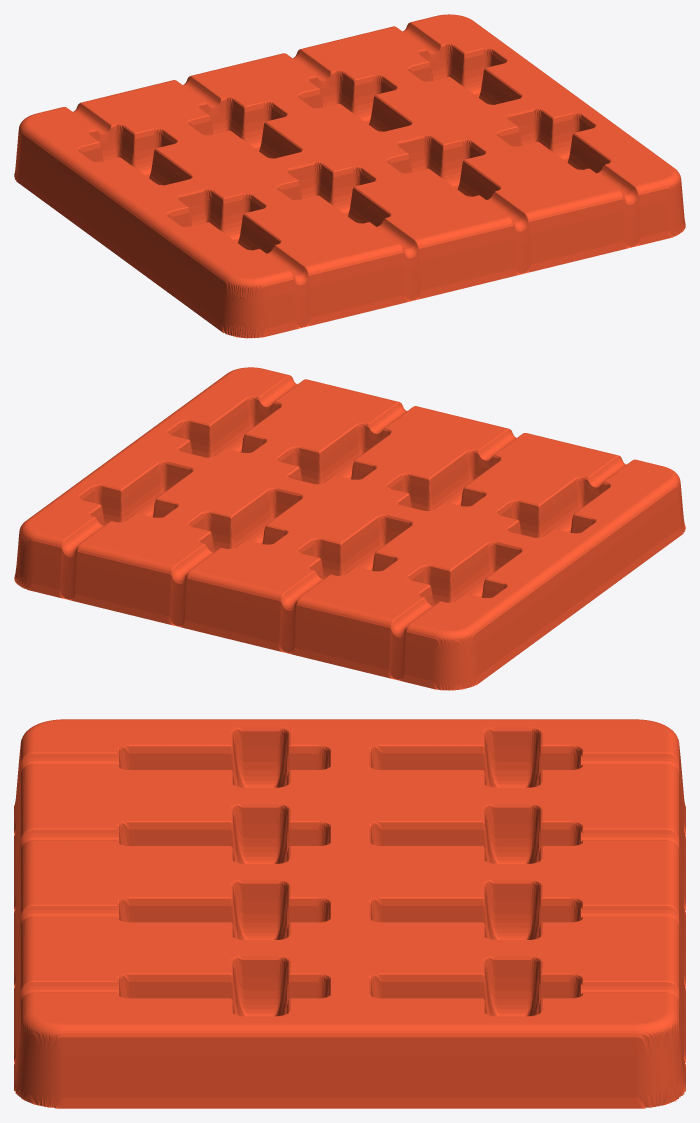
The model's file is mold.glb.
3 renders of one model, top to bottom at view 1: azimuth 30°, elevation 25°; view 2: azimuth 150°, elevation 25°; view 3: azimuth 270°, elevation 25°, orthographic. The views are drawn at different scales.
Visible parts, largest first — view 1: geometry_0; view 2: geometry_0; view 3: geometry_0.
Part boxes in pixels (box(x1,y1,x2,y2)): geometry_0: box(14, 14, 685, 338); geometry_0: box(14, 367, 685, 690); geometry_0: box(14, 719, 685, 1108).
Bounding box in the file's own units: 0.1382 × 0.0155 × 0.1229.
